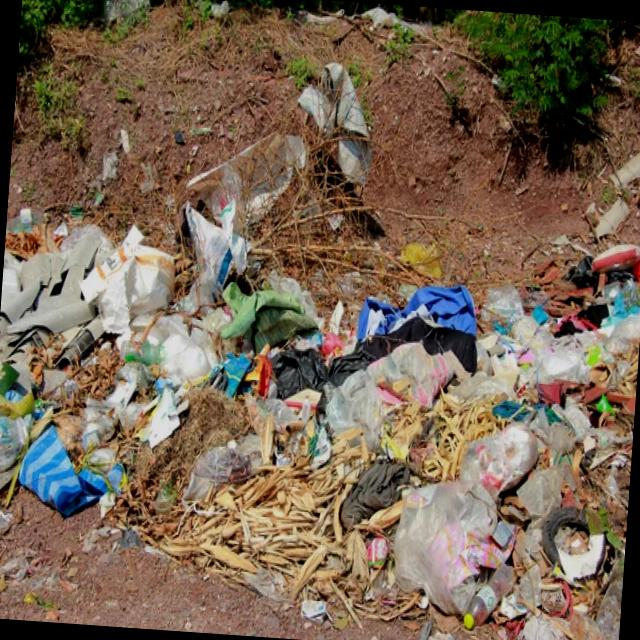garbage: (8, 191, 633, 640)
